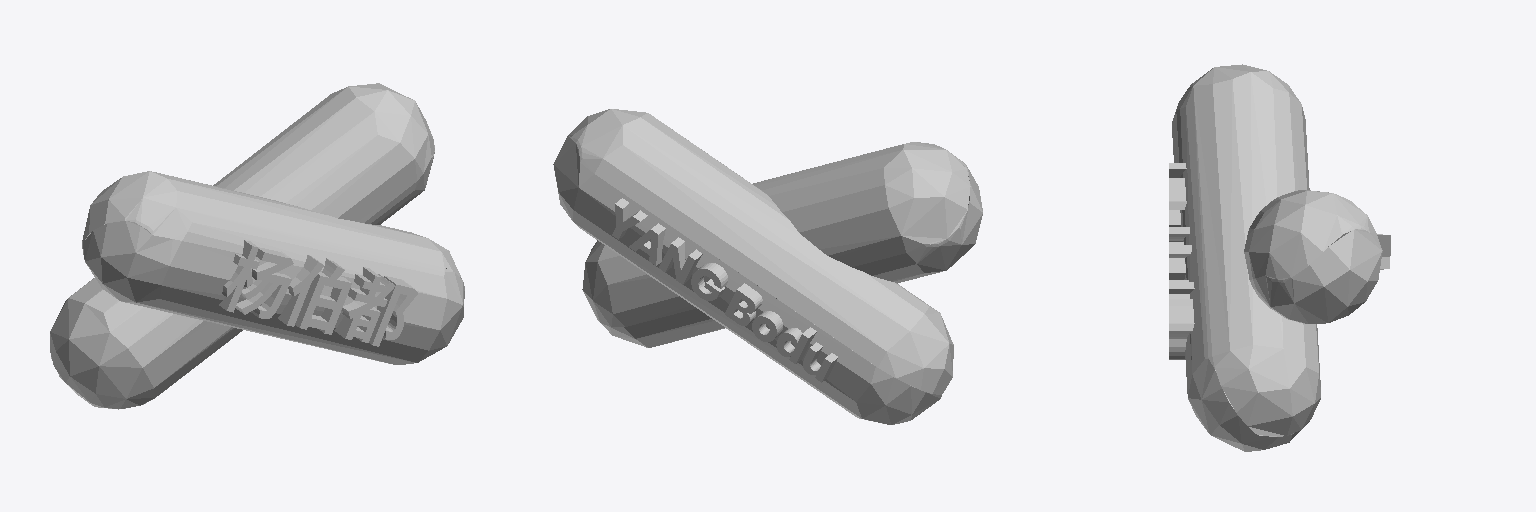
File: YangBodu.obj
3 renders of one model, left to right at view 1: azimuth 30°, elevation 25°; view 2: azimuth 150°, elevation 25°; view 3: azimuth 270°, elevation 25°, orthographic.
Visible parts, largest first — view 1: root_3, root_2, node_id832; view 2: root_2, root_3, node_id843; view 3: root_3, root_2, node_id832.
Boxes of the visible parts, <box> form: root_3: <box>82,171,464,364</box>; root_2: <box>50,83,434,409</box>; node_id832: <box>219,240,417,346</box>; root_2: <box>553,109,953,424</box>; root_3: <box>582,142,982,347</box>; node_id843: <box>612,198,837,382</box>; root_3: <box>1172,64,1320,451</box>; root_2: <box>1244,190,1382,323</box>; node_id832: <box>1169,163,1194,359</box>.
Size of the model in its own units: 0.289 by 0.1836 by 0.1474.